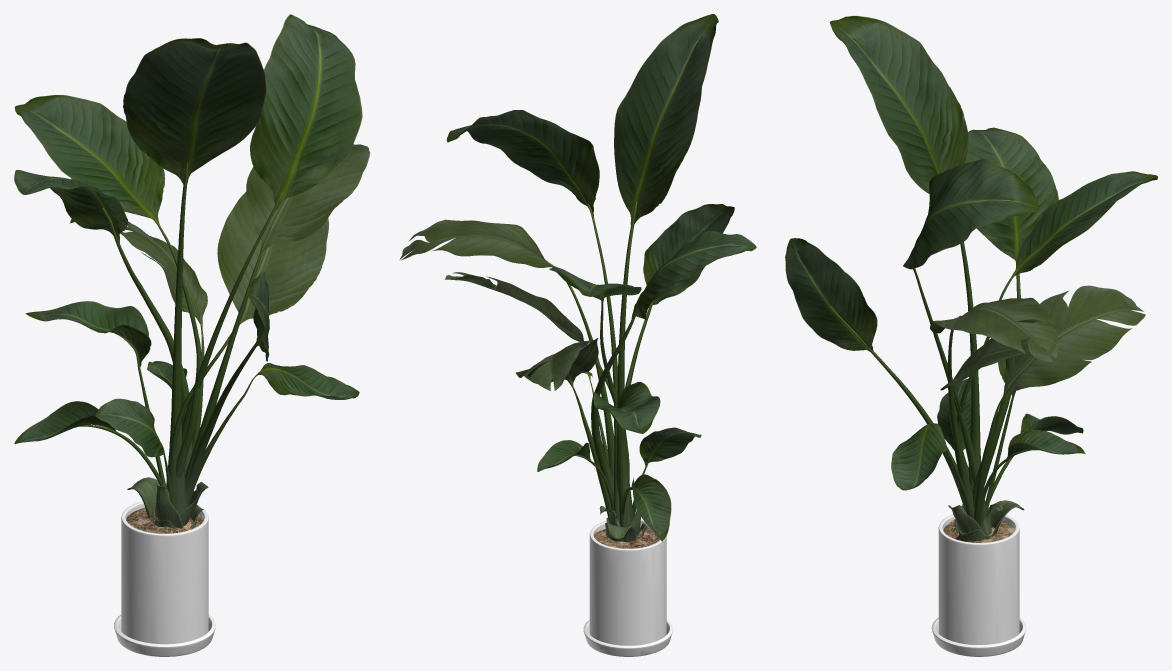
Rendered from pottedstrelizia.glb.
The picture shows the model from 3 angles, left to right: view 1: azimuth 30°, elevation 25°; view 2: azimuth 150°, elevation 25°; view 3: azimuth 270°, elevation 25°; orthographic projection. The views are drawn at different scales.
Visible parts, largest first — view 1: plant, pot; view 2: plant, pot; view 3: plant, pot.
Part boxes in pixels (x1,y1,x2,y2): plant: (14, 14, 370, 528); pot: (114, 501, 215, 656); plant: (399, 14, 756, 541); pot: (583, 519, 673, 656); plant: (785, 15, 1157, 541); pot: (931, 514, 1026, 656).
Bounding box in the file's own units: 0.6095 × 1.04 × 0.5756.
7 materials, 6 textured.
